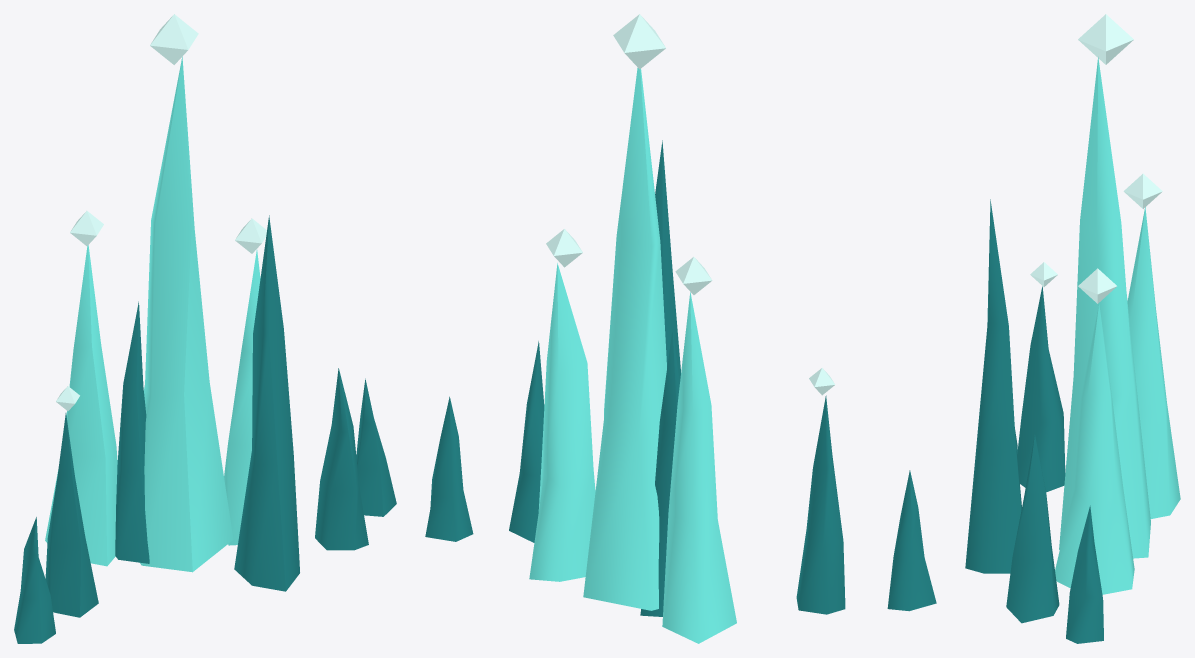
File: southpoint-spires-v1.glb
3 renders of one model, left to right at view 1: azimuth 30°, elevation 25°; view 2: azimuth 150°, elevation 25°; view 3: azimuth 270°, elevation 25°, orthographic. The views are drawn at different scales.
Visible parts, largest first — view 1: Southpoint Crystal Spires; view 2: Southpoint Crystal Spires; view 3: Southpoint Crystal Spires.
Part boxes in pixels (bbox=[...]): Southpoint Crystal Spires: bbox=[14, 14, 396, 643]; Southpoint Crystal Spires: bbox=[425, 14, 936, 643]; Southpoint Crystal Spires: bbox=[965, 14, 1180, 643].
Size of the model in its own units: 86.37 by 105 by 38.16.
